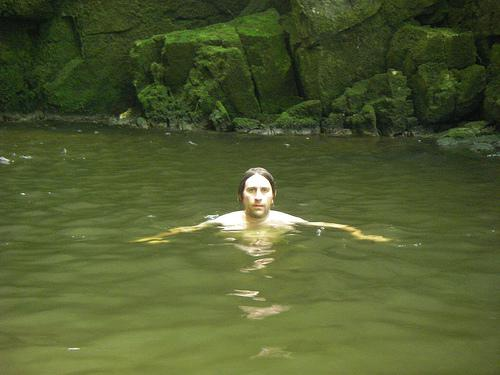swimmer: (140, 165, 390, 246)
